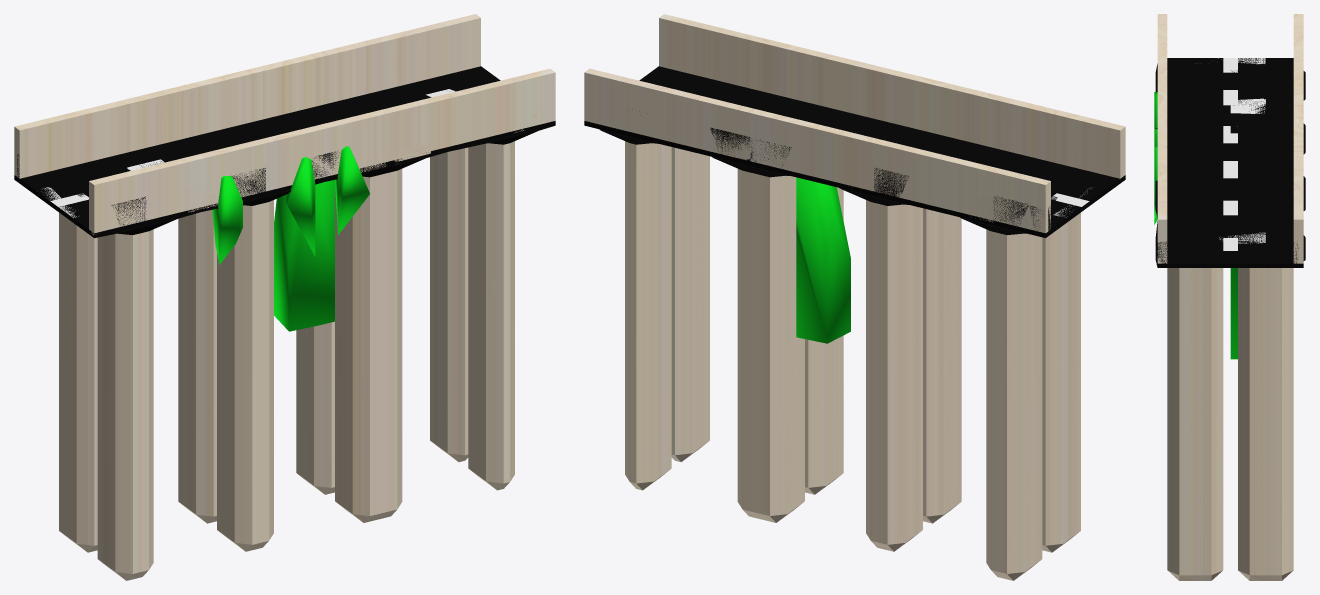
File: Bridge C.F3.fbx
3 views of the same model, side by side, from view 1: azimuth 30°, elevation 25°; view 2: azimuth 150°, elevation 25°; view 3: azimuth 270°, elevation 25° (orthographic). The views are drawn at different scales.
Visible parts, largest first — view 1: road, road_cell.106, road_cell.269, road_cell.100, road_cell.036, road_cell.251, road_cell.259, road_cell.054, road_cell.227, road_cell.243, road_cell.096, road_cell.024 (+33 smaller); view 2: road, road_cell.106, road_cell.107, road_cell.198, road_cell.114, road_cell.146, road_cell.209, road_cell.258, road_cell.100, road_cell.007, road_cell.243, road_cell.227 (+30 smaller); view 3: road, road_cell.168, road_cell.037, road_cell.192, road_cell.196, road_cell.117, road_cell.257, road_cell.273, road_cell.029, road_cell.106, road_cell.072, road_cell.152 (+16 smaller).
Boxes of the visible parts, x1=… form: road: x1=14, y1=18, x2=555, y2=580; road_cell.106: x1=274, y1=118, x2=334, y2=331; road_cell.269: x1=114, y1=225, x2=160, y2=403; road_cell.100: x1=430, y1=273, x2=443, y2=450; road_cell.036: x1=243, y1=195, x2=266, y2=375; road_cell.251: x1=212, y1=176, x2=242, y2=264; road_cell.259: x1=285, y1=157, x2=315, y2=256; road_cell.054: x1=334, y1=146, x2=369, y2=234; road_cell.227: x1=469, y1=144, x2=481, y2=307; road_cell.243: x1=178, y1=332, x2=189, y2=510; road_cell.096: x1=217, y1=361, x2=232, y2=541; road_cell.024: x1=187, y1=339, x2=195, y2=512; road: x1=584, y1=14, x2=1125, y2=578; road_cell.106: x1=796, y1=177, x2=850, y2=343; road_cell.107: x1=629, y1=139, x2=663, y2=313; road_cell.198: x1=871, y1=372, x2=896, y2=551; road_cell.114: x1=1042, y1=372, x2=1067, y2=549; road_cell.146: x1=887, y1=204, x2=913, y2=374; road_cell.209: x1=750, y1=162, x2=796, y2=345; road_cell.258: x1=756, y1=343, x2=778, y2=522; road_cell.100: x1=644, y1=302, x2=666, y2=487; road_cell.007: x1=991, y1=222, x2=1015, y2=404; road_cell.243: x1=894, y1=367, x2=913, y2=551; road_cell.227: x1=683, y1=150, x2=705, y2=284; road: x1=1155, y1=14, x2=1305, y2=580; road_cell.168: x1=1265, y1=243, x2=1287, y2=420; road_cell.037: x1=1265, y1=418, x2=1287, y2=576; road_cell.192: x1=1203, y1=416, x2=1223, y2=575; road_cell.196: x1=1188, y1=246, x2=1217, y2=420; road_cell.117: x1=1249, y1=421, x2=1265, y2=577; road_cell.257: x1=1175, y1=268, x2=1187, y2=419; road_cell.273: x1=1286, y1=416, x2=1293, y2=575; road_cell.029: x1=1175, y1=420, x2=1202, y2=577; road_cell.106: x1=1230, y1=186, x2=1265, y2=359; road_cell.072: x1=1244, y1=243, x2=1265, y2=420; road_cell.152: x1=1258, y1=152, x2=1293, y2=172.
Size of the model in its own units: 2000 by 1720 by 621.
